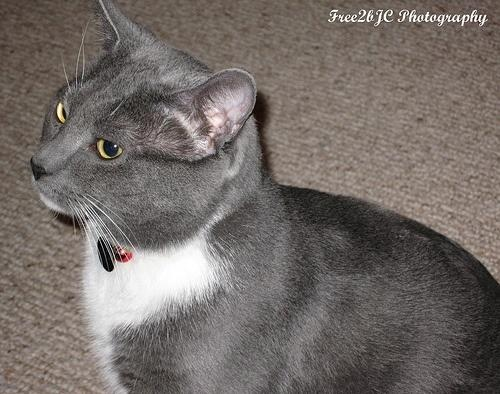cat: (28, 1, 500, 394)
